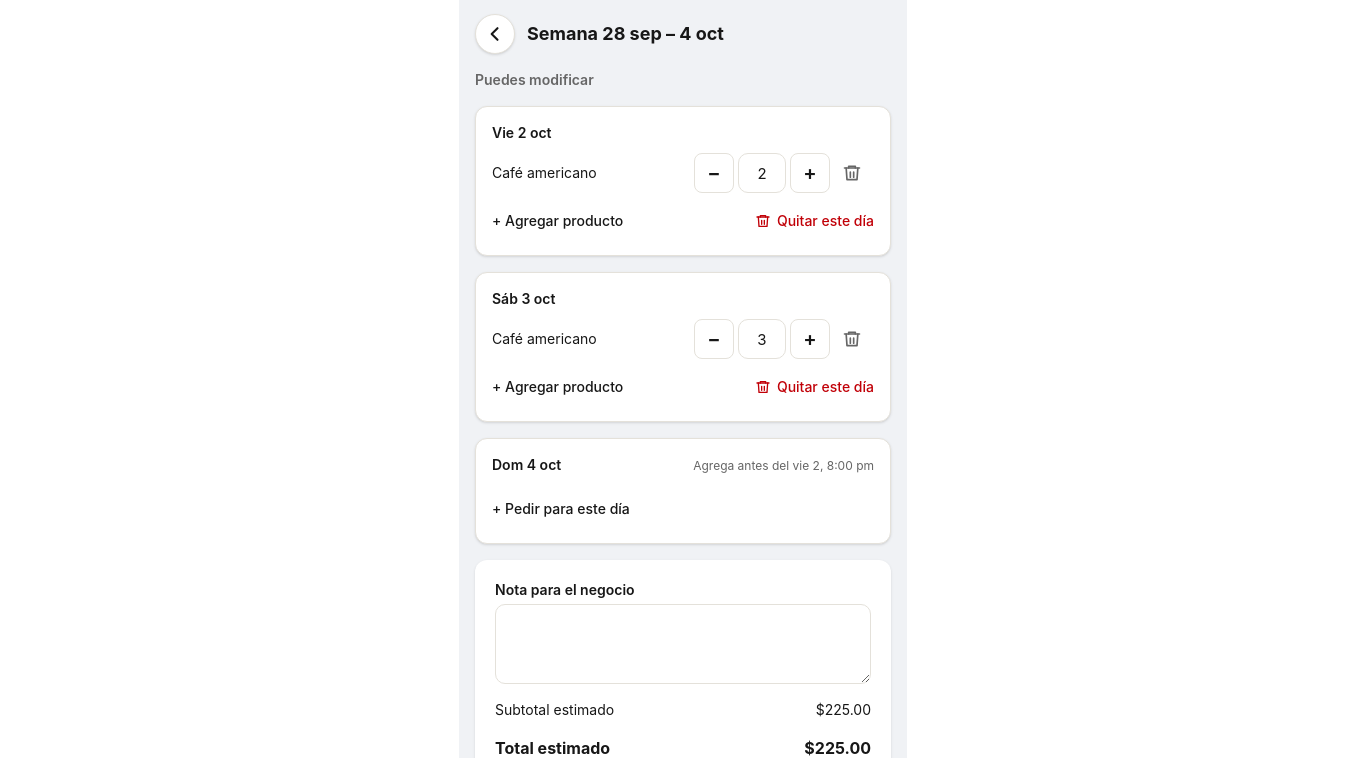
modificar pedido › al quitar todas las entregas editables y no quedar ninguna, avisa y deshabilita guardar
Click the button "Quitar este día" below "Vie 2 oct" at [814, 221], box [755,211,874,231]
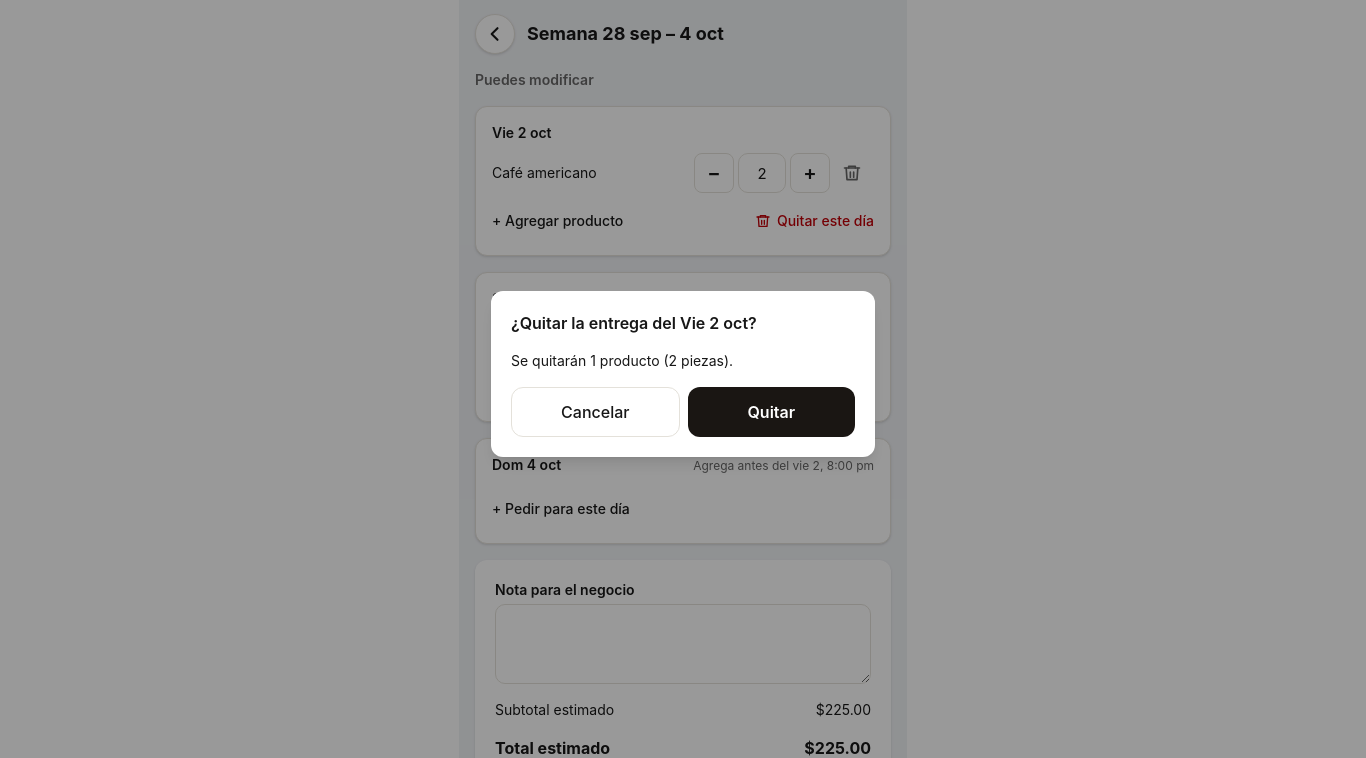
Click the button "Quitar" at [771, 412], box [688,387,855,437]
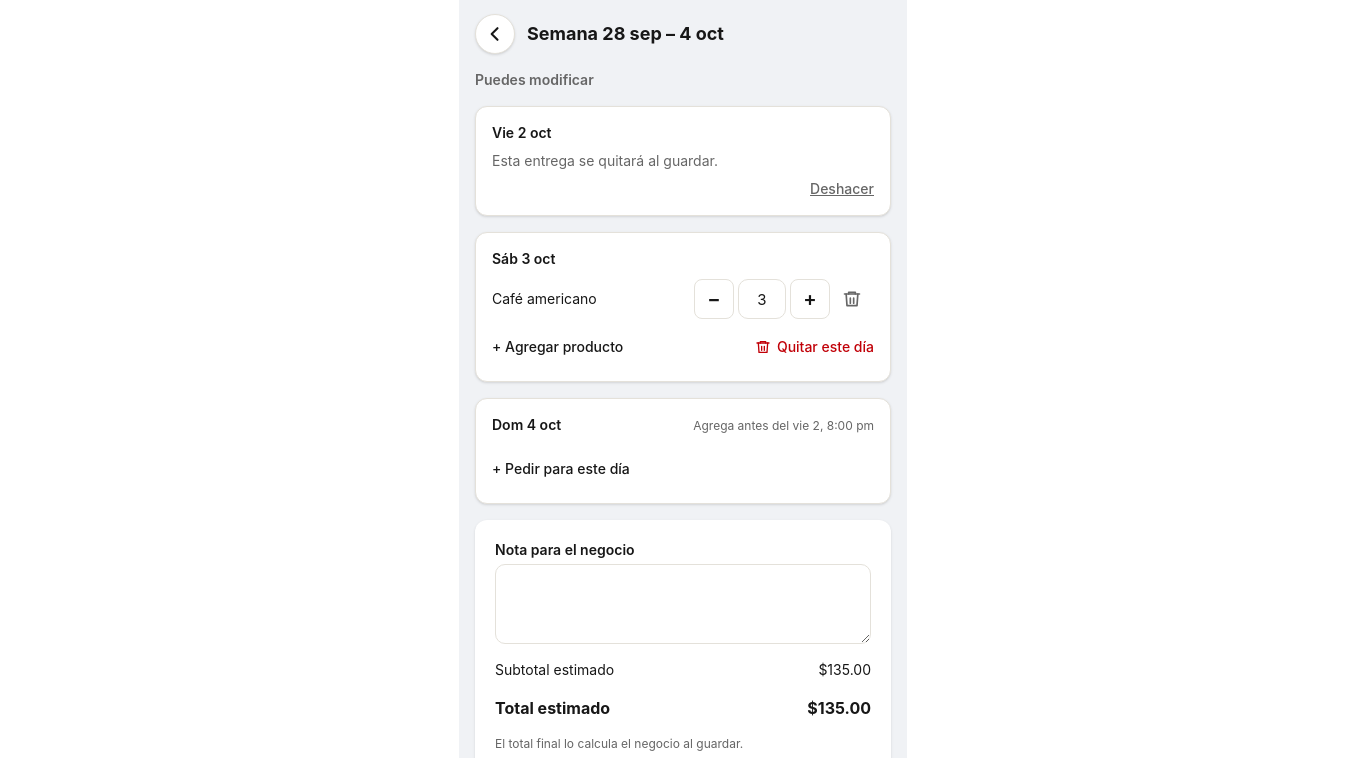
Expected: the dialog is gone
Click the button "Quitar este día" at [814, 347], box [755,337,874,357]
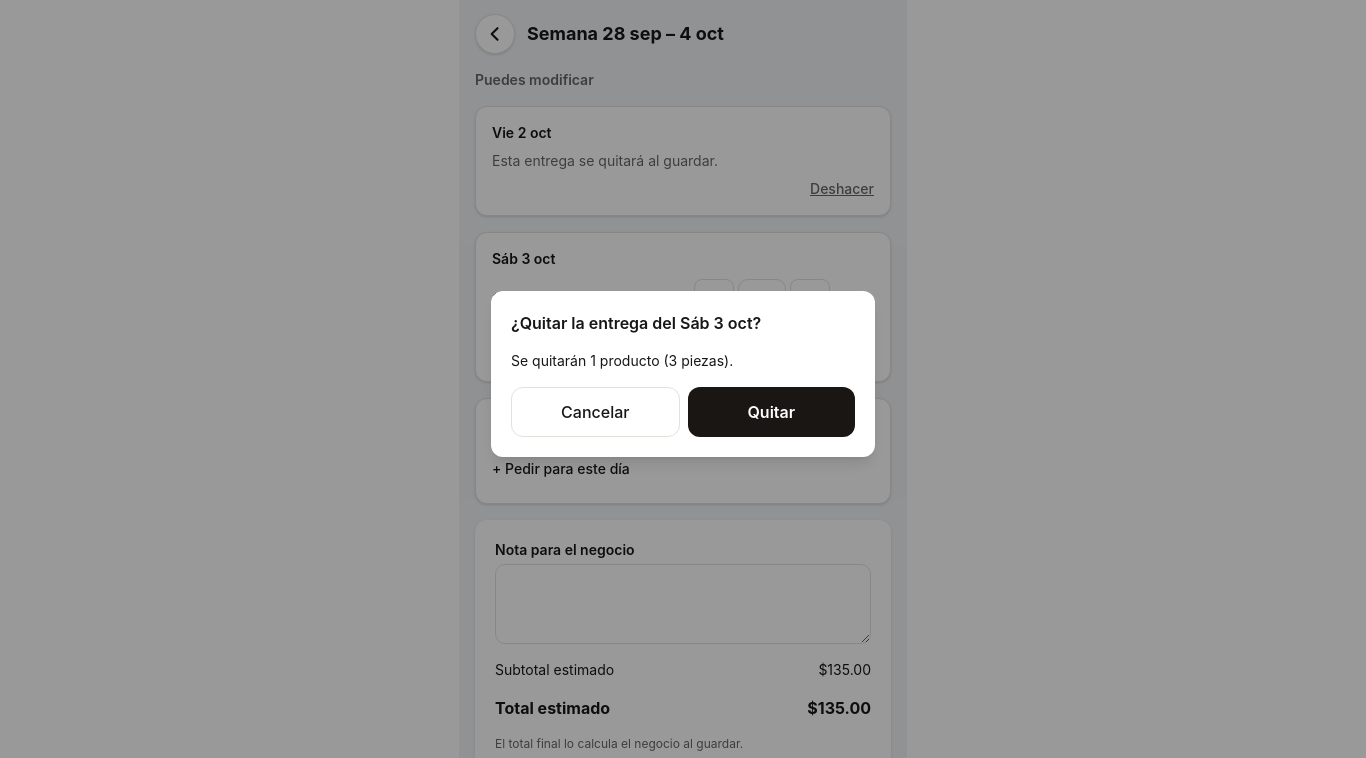
Click the button "Quitar" at [771, 412], box [688,387,855,437]
(page scrolled)
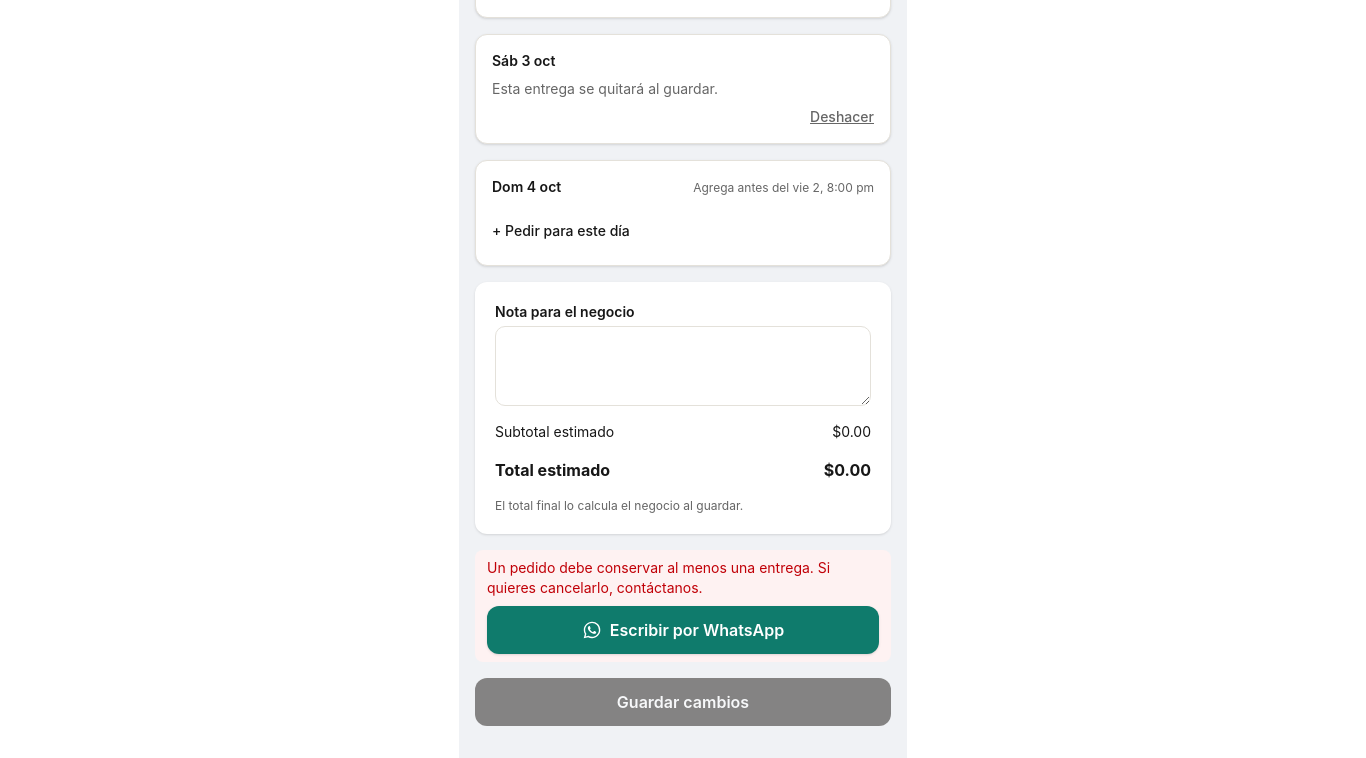
Expected: the dialog is gone
Expected: the text "debe conservar al menos una entrega" is shown, [487,559,830,596]
Expected: the button "Guardar cambios" is disabled, [475,678,891,726]
